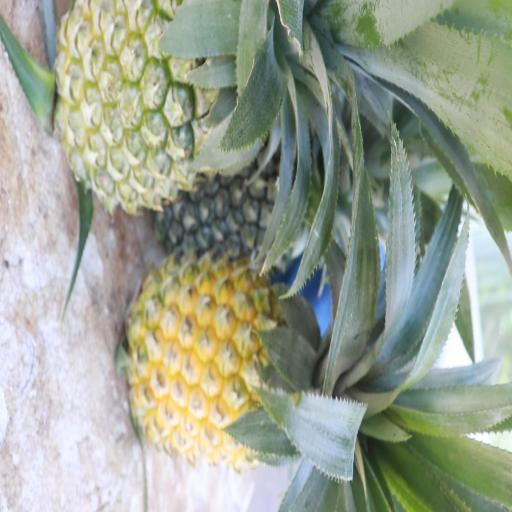------------------------------: (58, 0, 267, 205)
Pineapple - v8 v1: (122, 250, 363, 468)
